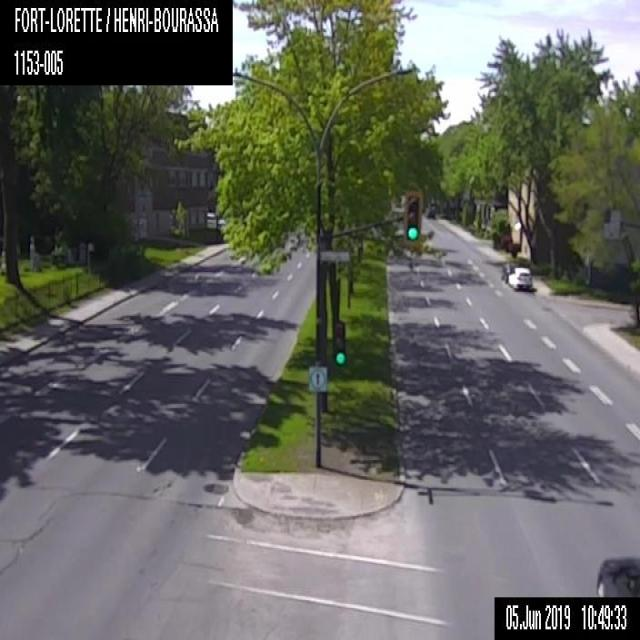vehicle: (594, 552, 639, 596), (507, 266, 532, 292), (501, 260, 522, 278), (422, 206, 434, 218)
